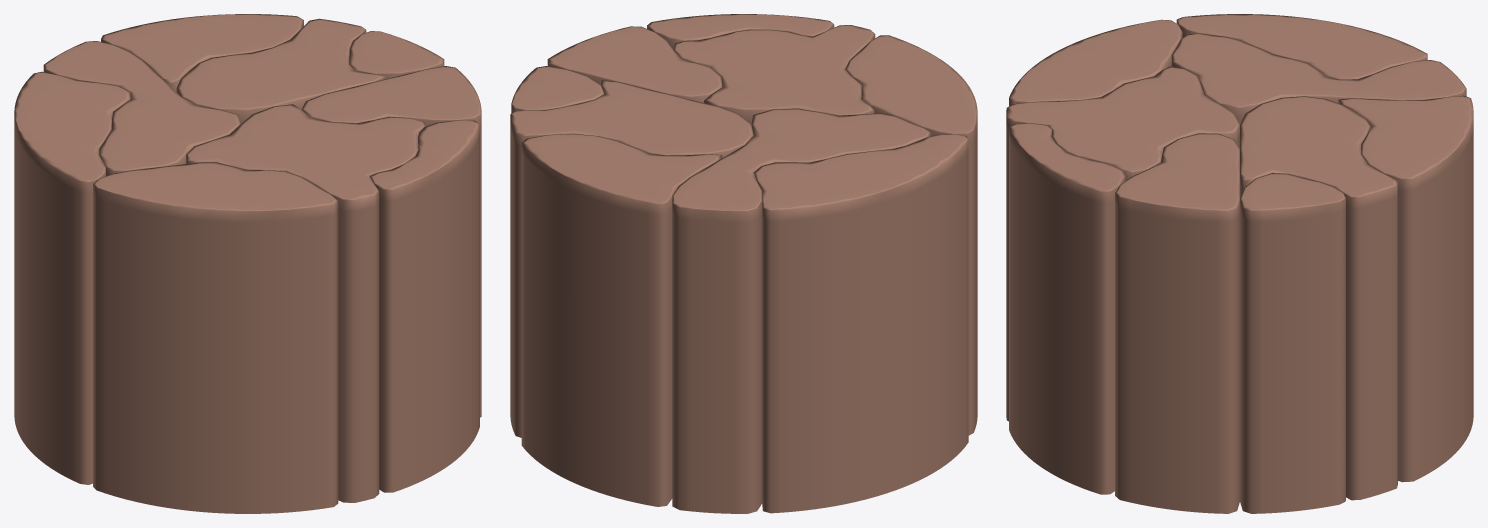
Rendered from SM_CrumblingPlatformFINAL.fbx.
The picture shows the model from 3 angles, left to right: view 1: azimuth 30°, elevation 25°; view 2: azimuth 150°, elevation 25°; view 3: azimuth 270°, elevation 25°; orthographic projection.
Parts seen in each view (by area): view 1: polySurface1; view 2: polySurface1; view 3: polySurface1.
Part boxes in pixels (x1,y1,x2,y2): polySurface1: (14, 14, 481, 513); polySurface1: (510, 14, 977, 513); polySurface1: (1006, 14, 1473, 513).
Size of the model in its own units: 489 by 350 by 489.
